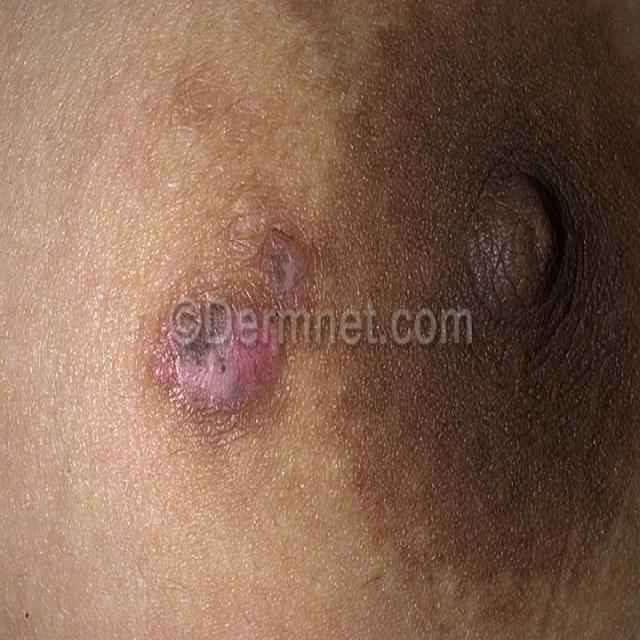Eczema: (104, 192, 314, 438)
